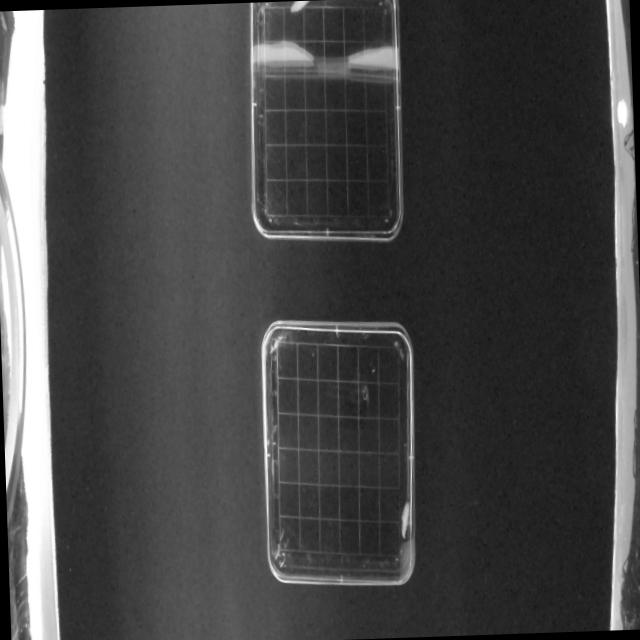larva: (398, 494, 413, 541), (288, 0, 322, 14)
